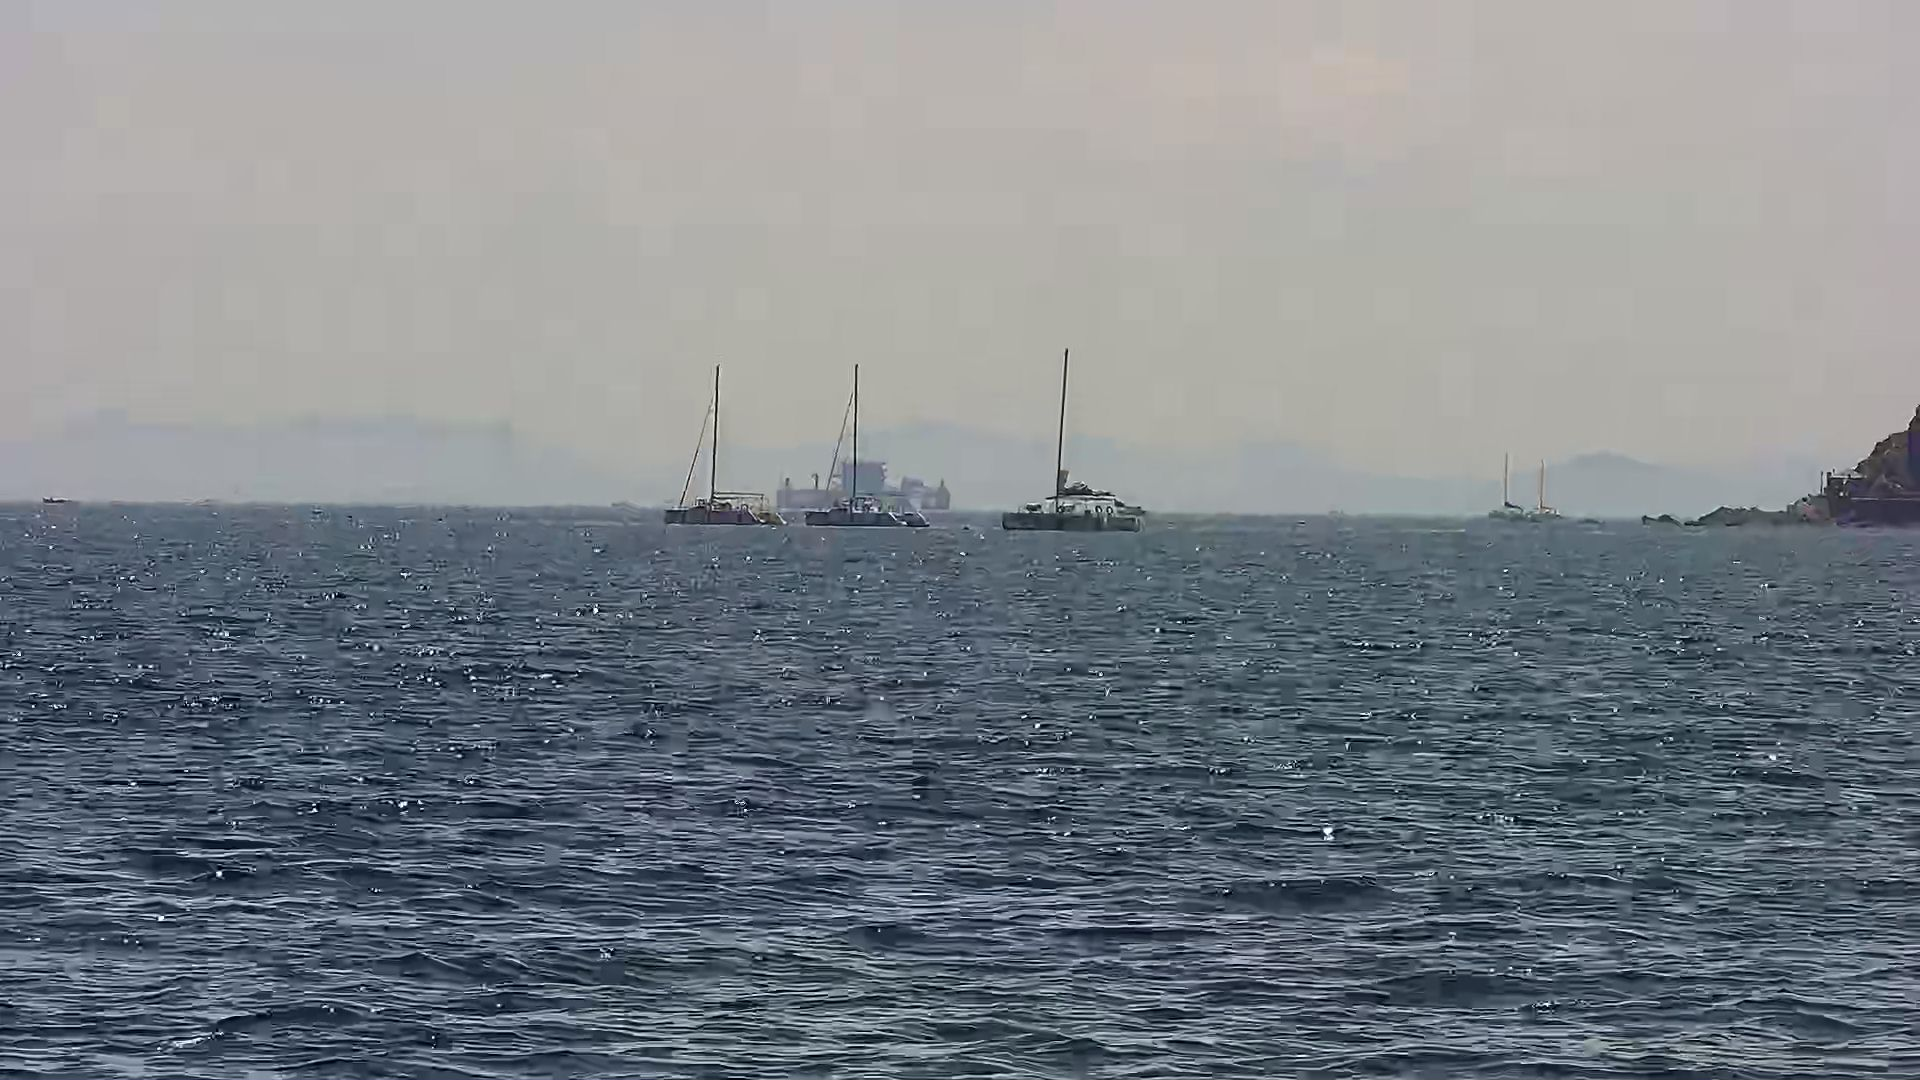boat: (998, 345, 1145, 533), (804, 365, 932, 525), (666, 367, 778, 527)
platform: (777, 456, 959, 520)
